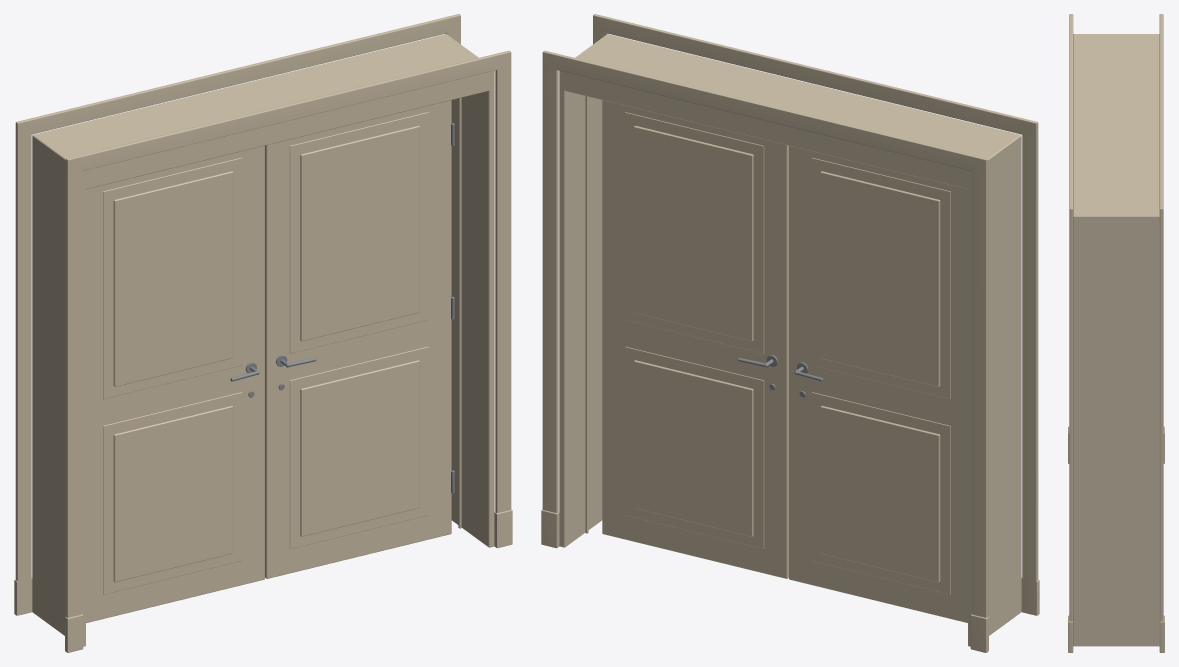
Rendered from prop_door_double_ivory_t40.glb.
3 views of the same model, side by side, from view 1: azimuth 30°, elevation 25°; view 2: azimuth 150°, elevation 25°; view 3: azimuth 270°, elevation 25° (orthographic). The views are drawn at different scales.
Parts seen in each view (by area): view 1: Frame, LeafMesh2, LeafMesh; view 2: Frame, LeafMesh2, LeafMesh; view 3: Frame.
Part boxes in pixels (left/top/right/bottom): Frame: left=14, top=14, right=512, bottom=652; LeafMesh2: left=265, top=100, right=454, bottom=578; LeafMesh: left=86, top=145, right=264, bottom=622; Frame: left=541, top=14, right=1039, bottom=652; LeafMesh2: left=602, top=100, right=788, bottom=578; LeafMesh: left=789, top=145, right=967, bottom=622; Frame: left=1068, top=14, right=1164, bottom=652.
Size of what is drawn, in the model's own units: 2.15 by 2.27 by 0.448.
